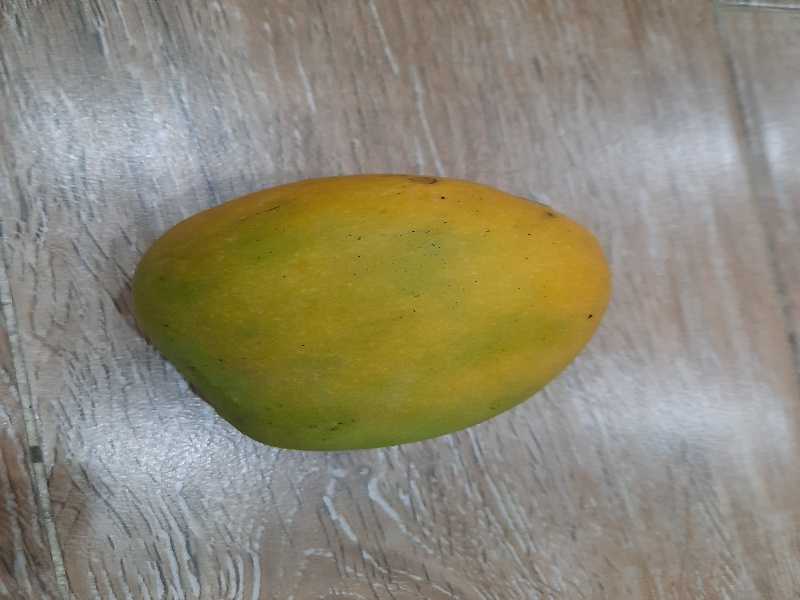fruit: (130, 159, 619, 467)
